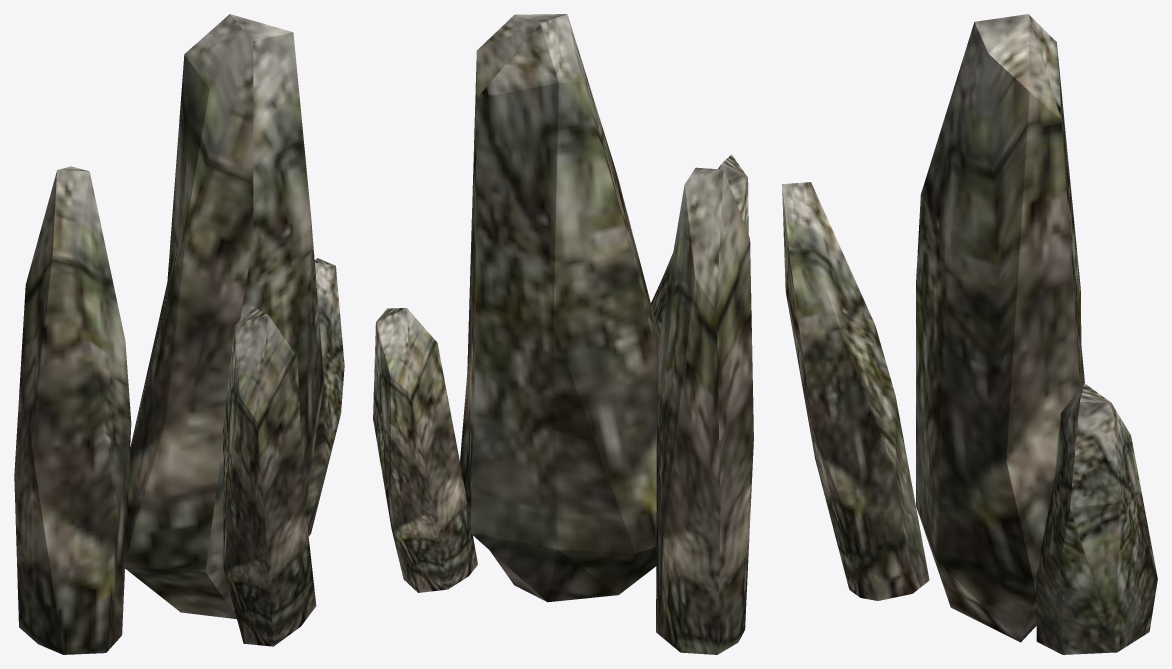
3 views of the same model, side by side, from view 1: azimuth 30°, elevation 25°; view 2: azimuth 150°, elevation 25°; view 3: azimuth 270°, elevation 25° (orthographic). The views are drawn at different scales.
Parts seen in each view (by area): view 1: a1; view 2: a1; view 3: a1.
Part boxes in pixels (x1,y1,x2,y2): a1: (14,14,344,654); a1: (373,14,753,654); a1: (782,14,1157,654).
Size of the model in its own units: 1107 by 1801 by 993.
